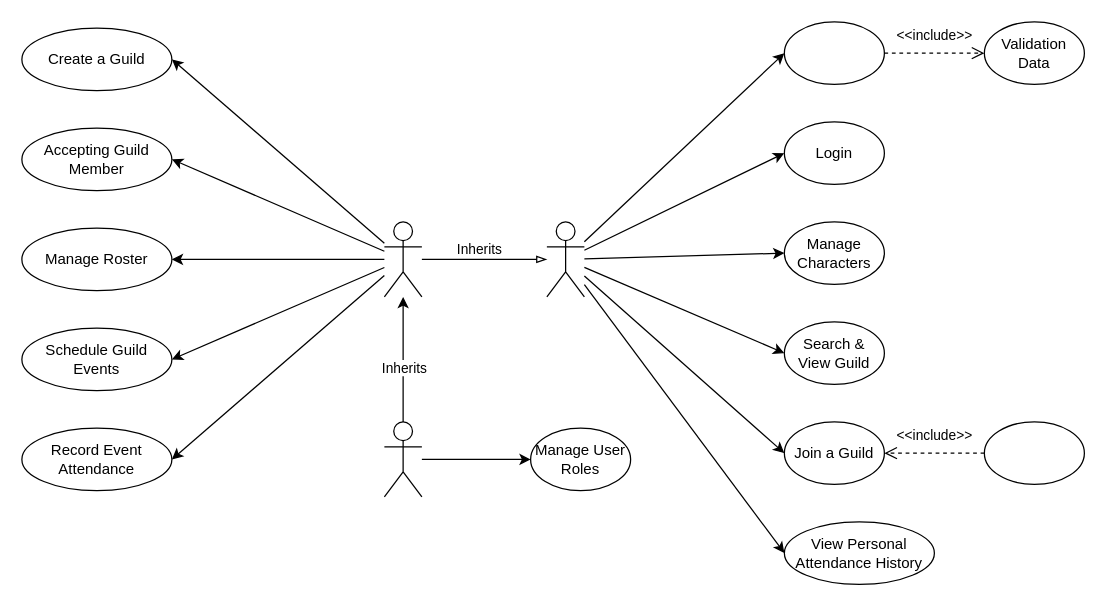
Image size: 1106x606. Some labels were removed from this diagram. Each missing label, with the box of its shape:
Admin: (383, 421, 422, 497)
Member: (546, 221, 584, 297)
Official: (383, 221, 422, 297)
Register: (783, 21, 884, 84)
Select Primary Character: (983, 421, 1084, 484)
